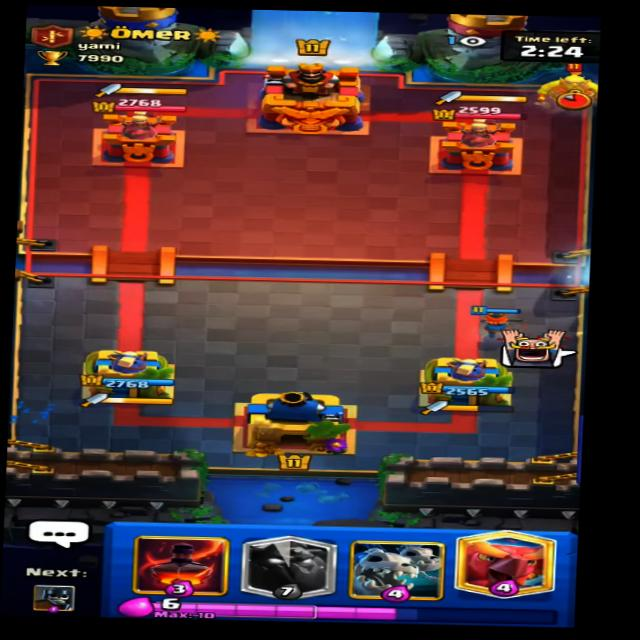goblin-demolisher: (532, 61, 611, 109)
